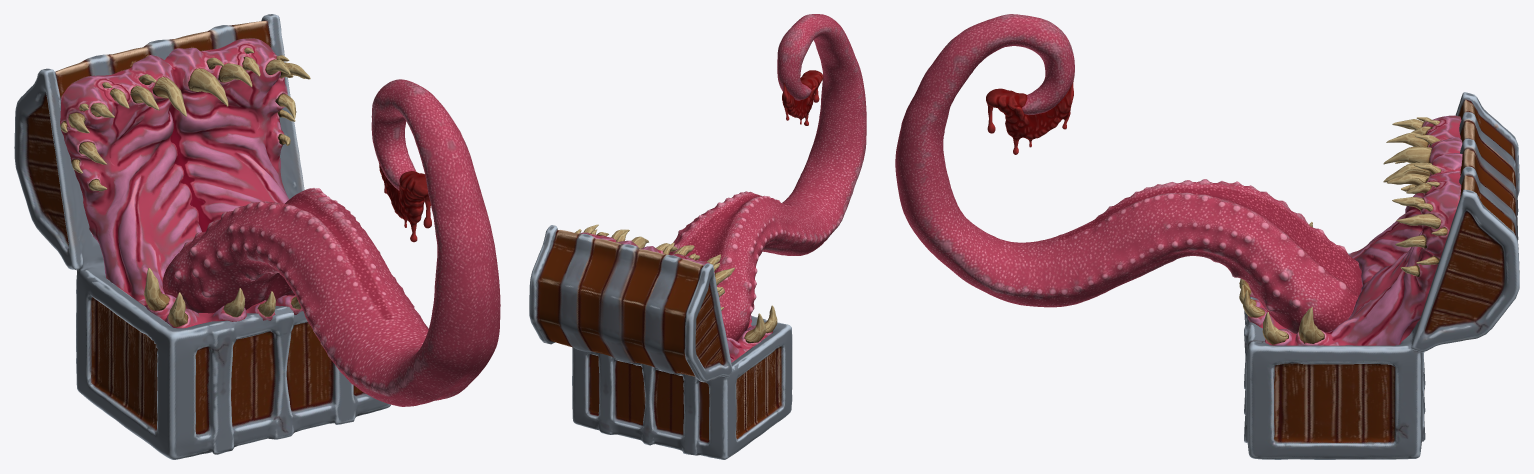
3 renders of one model, left to right at view 1: azimuth 30°, elevation 25°; view 2: azimuth 150°, elevation 25°; view 3: azimuth 270°, elevation 25°, orthographic. The views are drawn at different scales.
Parts seen in each view (by area): view 1: PM3D_Sphere3D, chest_object, PM3D_Cube3D, Extract10_01, Extract5; view 2: chest_object, PM3D_Sphere3D, Extract10_01, Extract5, PM3D_Cube3D; view 3: PM3D_Sphere3D, chest_object, PM3D_Cube3D, Extract10_01, Extract5.
Boxes of the visible parts, bbox=[...] form: PM3D_Sphere3D: bbox=[162, 79, 500, 406]; chest_object: bbox=[14, 14, 390, 459]; PM3D_Cube3D: bbox=[60, 38, 302, 328]; Extract10_01: bbox=[60, 47, 310, 327]; Extract5: bbox=[379, 163, 431, 242]; chest_object: bbox=[529, 225, 792, 459]; PM3D_Sphere3D: bbox=[669, 14, 866, 341]; Extract10_01: bbox=[575, 224, 777, 343]; Extract5: bbox=[782, 70, 823, 125]; PM3D_Cube3D: bbox=[579, 232, 772, 362]; PM3D_Sphere3D: bbox=[895, 14, 1362, 333]; chest_object: bbox=[1244, 92, 1519, 459]; PM3D_Cube3D: bbox=[1247, 115, 1462, 345]; Extract10_01: bbox=[1239, 117, 1447, 344]; Extract5: bbox=[986, 81, 1073, 154].
Size of the model in its own units: 0.7729 by 1.41 by 2.
5 materials, 5 textured.
